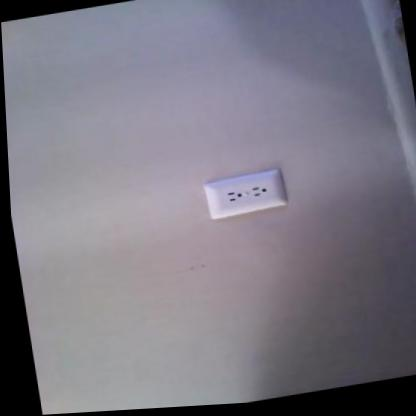OUTLET: (200, 166, 288, 220)
